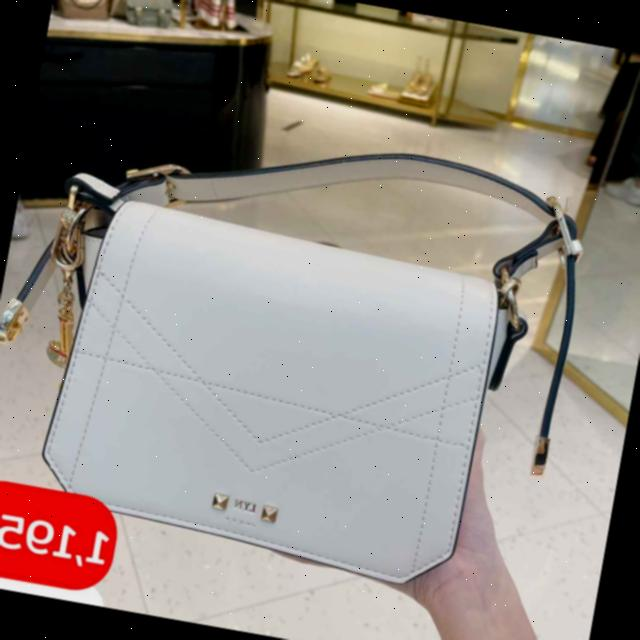handbag: (31, 179, 535, 604)
